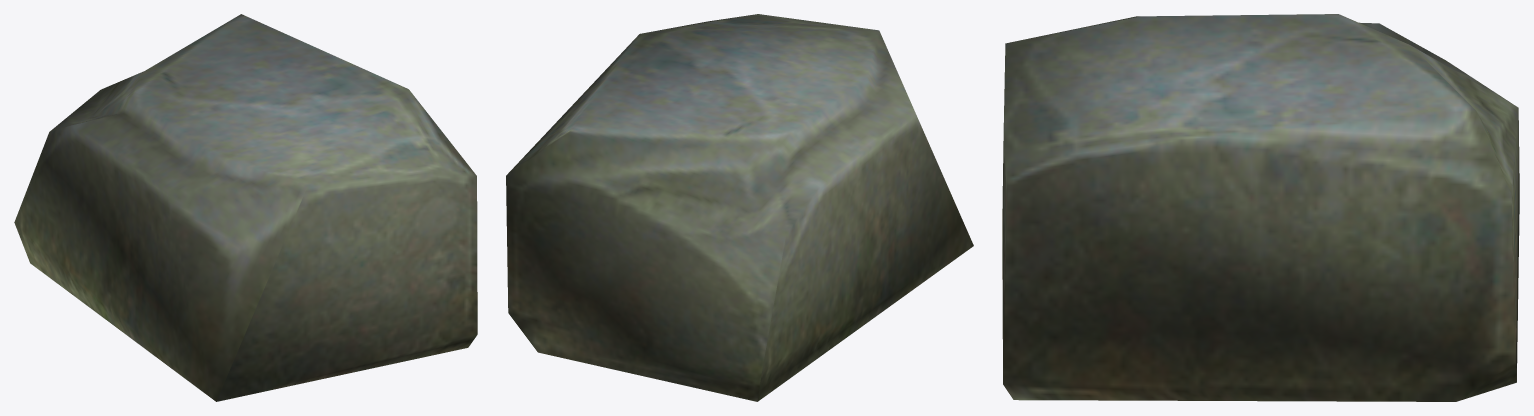
File: wlf_shitou10_w.FBX
3 renders of one model, left to right at view 1: azimuth 30°, elevation 25°; view 2: azimuth 150°, elevation 25°; view 3: azimuth 270°, elevation 25°, orthographic. The views are drawn at different scales.
Visible parts, largest first — view 1: wlf_shitou10_w; view 2: wlf_shitou10_w; view 3: wlf_shitou10_w.
Boxes of the visible parts, bbox=[...] form: wlf_shitou10_w: bbox=[14, 14, 477, 401]; wlf_shitou10_w: bbox=[506, 14, 973, 401]; wlf_shitou10_w: bbox=[1002, 14, 1519, 401].
Bounding box in the file's own units: 13.55 × 10.31 × 18.39.
